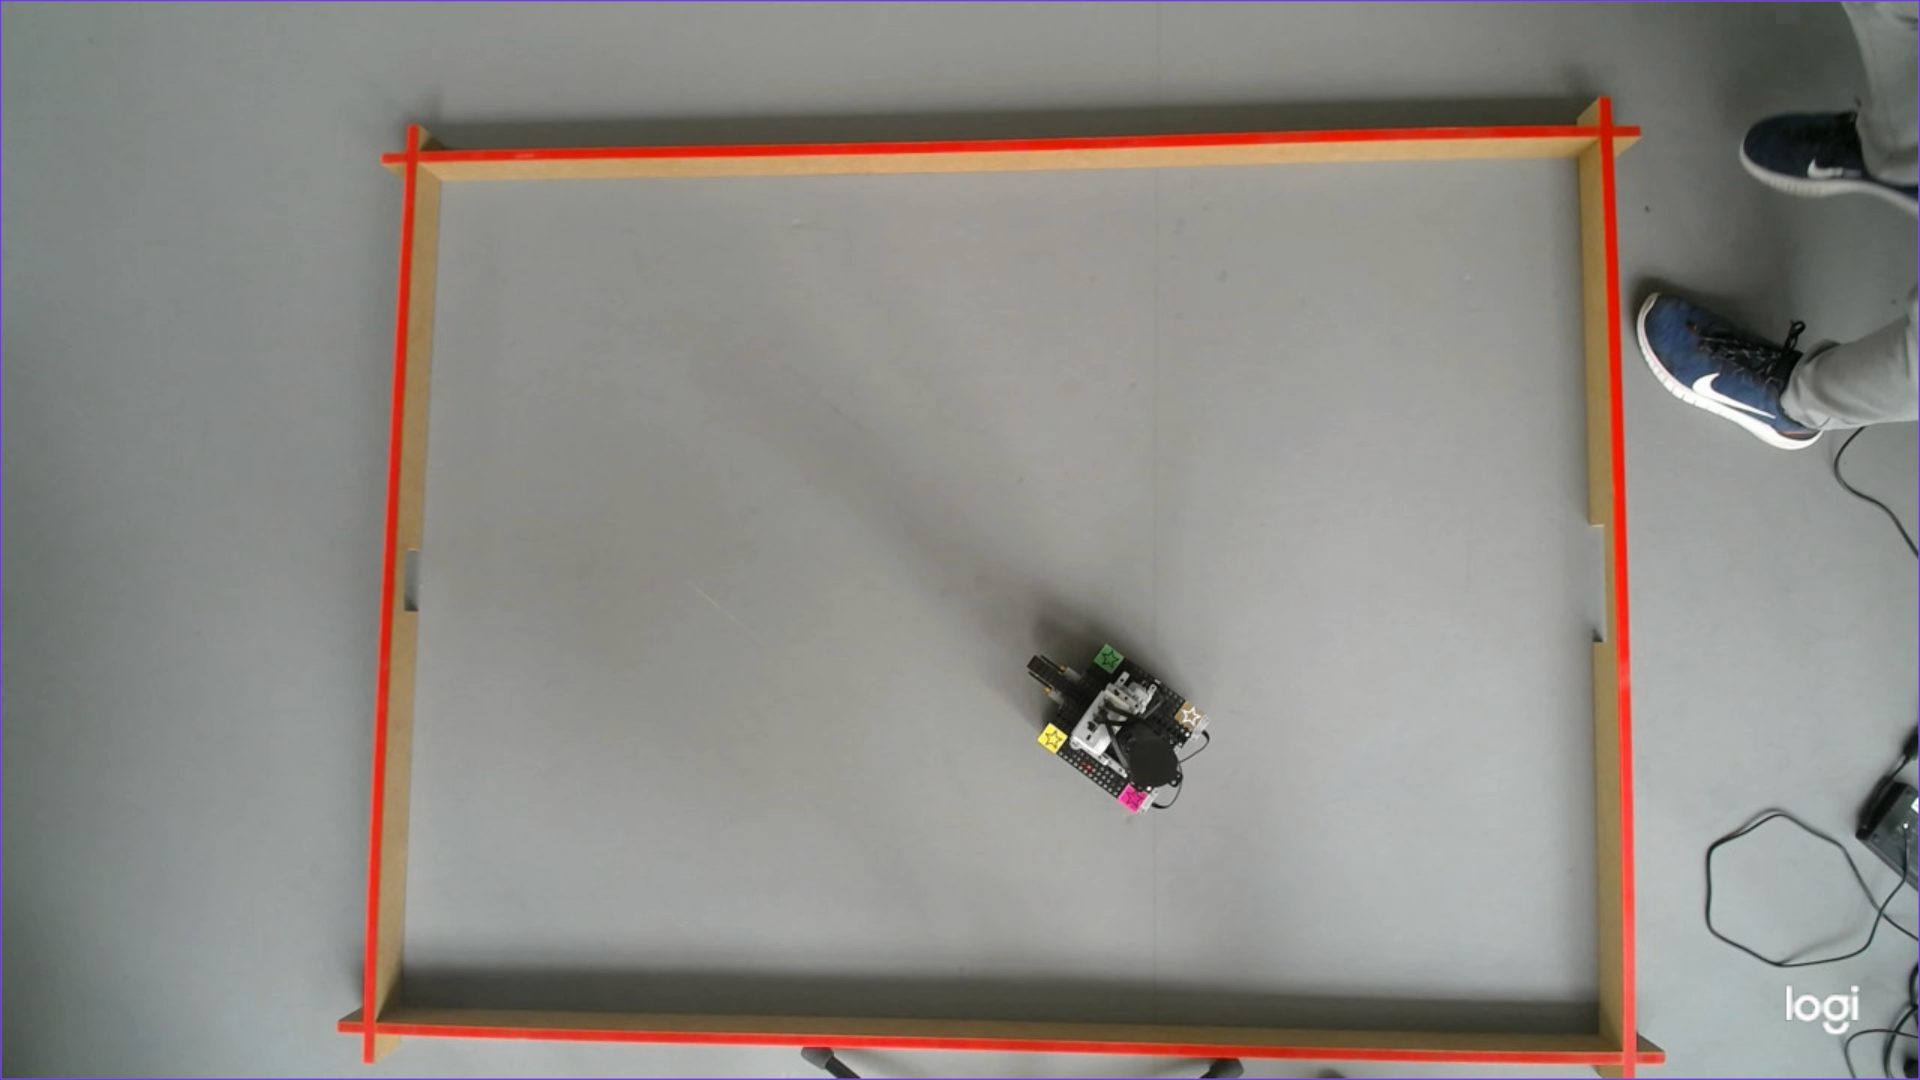corner_brown: (1174, 702, 1203, 727)
corner_green: (1093, 644, 1124, 673)
corner_pink: (1117, 785, 1147, 812)
corner_yellow: (1036, 723, 1065, 753)
playfield: (344, 131, 1640, 1073)
playfield_corner: (396, 136, 433, 175), (1589, 109, 1626, 149), (1613, 1035, 1650, 1075), (351, 1005, 388, 1044)
